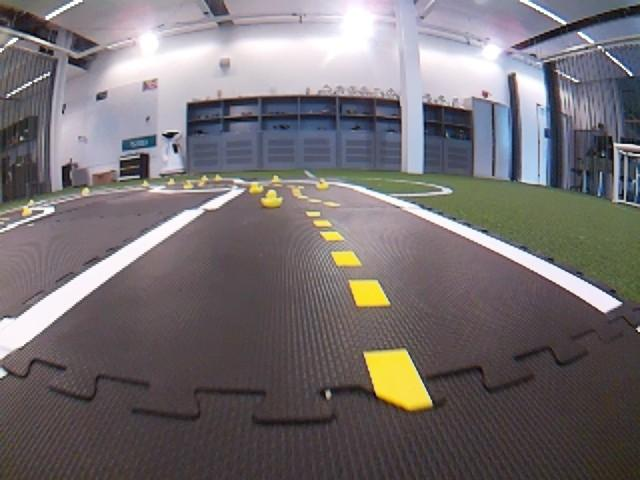Duckies: (260, 189, 283, 208), (249, 183, 265, 194), (315, 178, 329, 189), (21, 207, 32, 216), (183, 181, 194, 188), (271, 175, 281, 182), (167, 179, 175, 185), (213, 175, 221, 181), (201, 175, 208, 181), (27, 201, 35, 206), (142, 181, 148, 186), (81, 189, 87, 194)
